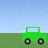vehicle: (22, 27, 46, 44)
